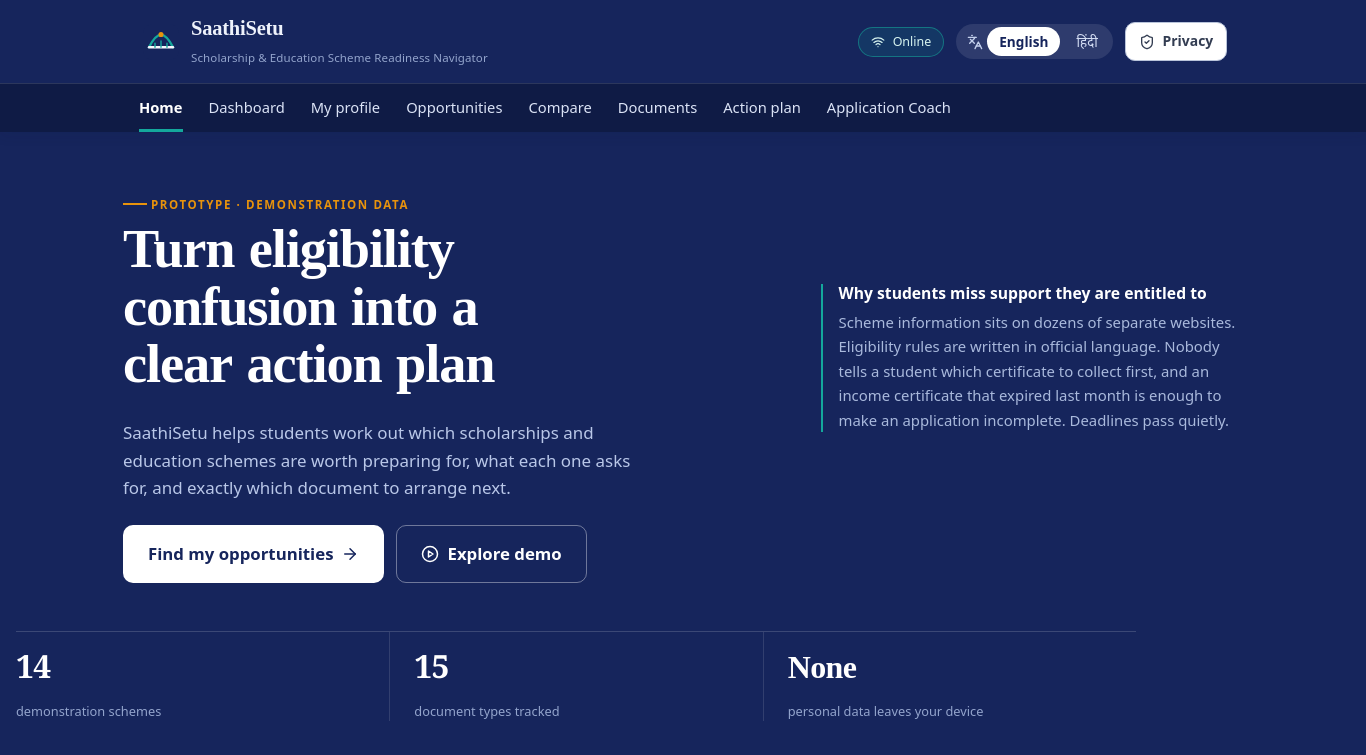
the profile wizard › shows progress through the five steps
Click the button "Find my opportunities".
click(254, 554)  # box [123,526,384,583]
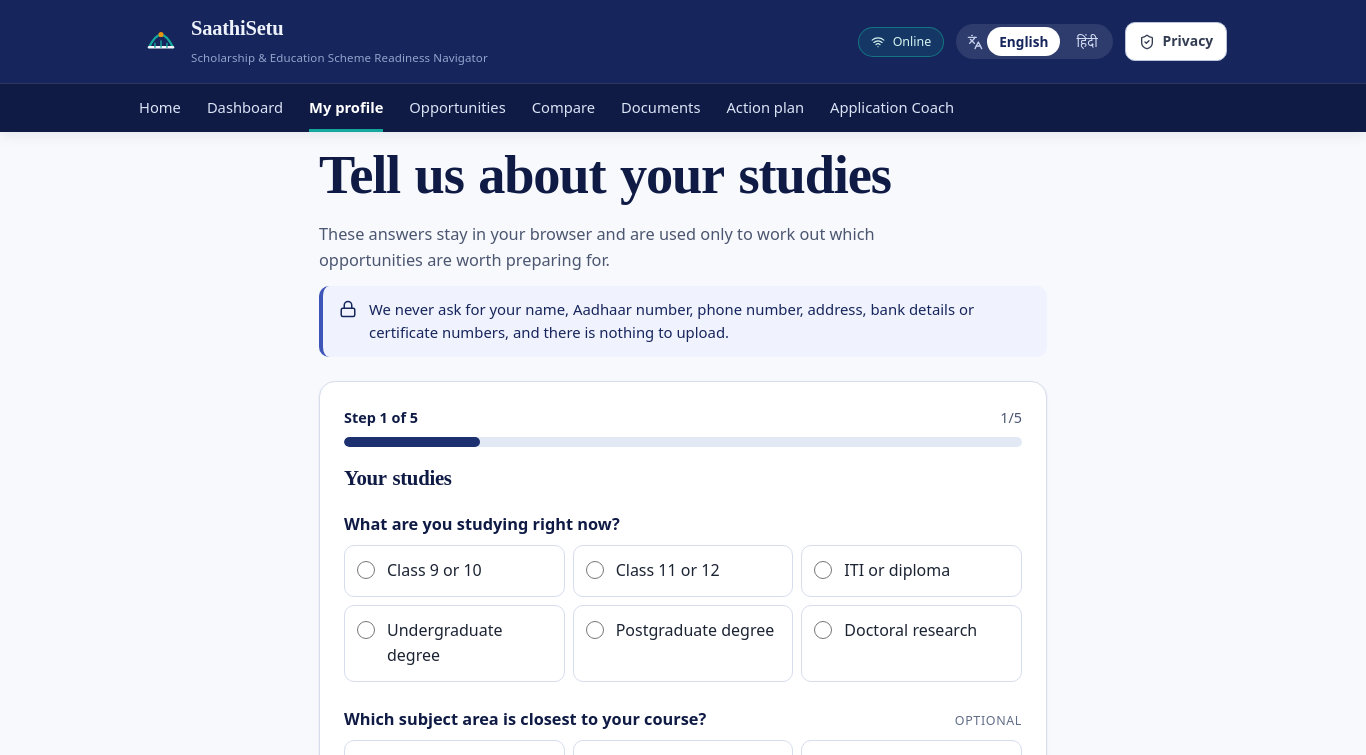
Check: the progress indicator named "step 1 of 5" is shown, box [344,437,1022,447]
